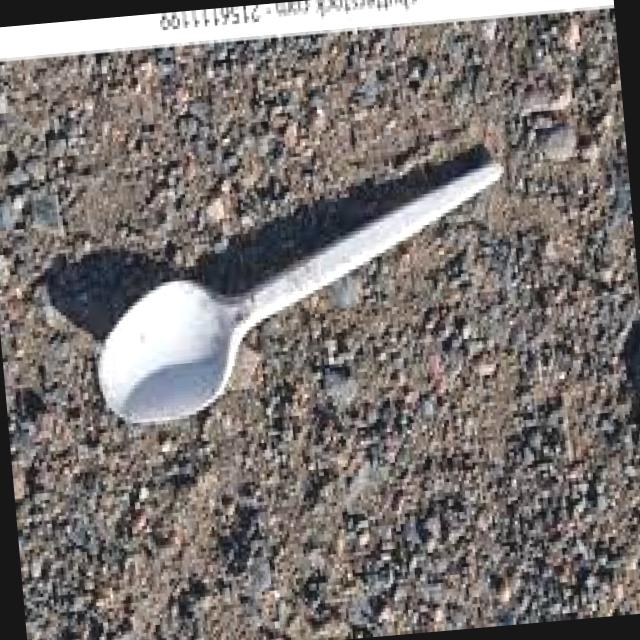nhua: (97, 159, 501, 423)
